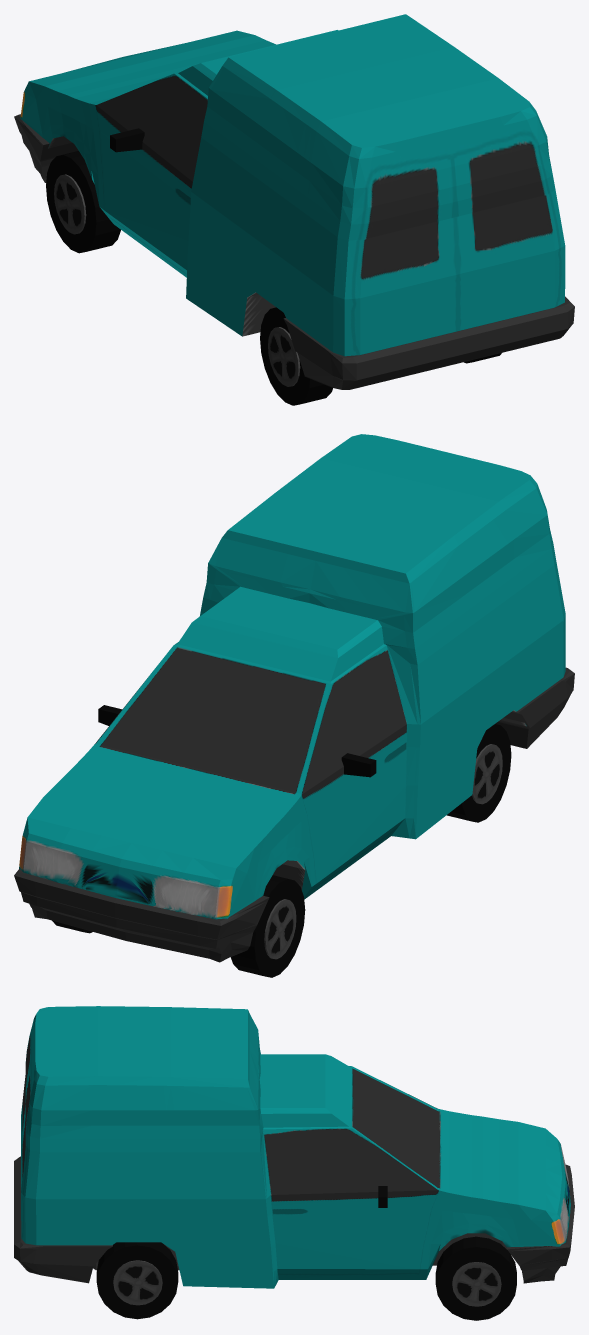
3 views of the same model, one above another, from view 1: azimuth 30°, elevation 25°; view 2: azimuth 150°, elevation 25°; view 3: azimuth 270°, elevation 25° (orthographic). The views are drawn at different scales.
Bounding box in the file's own units: 76.02 × 82.15 × 175.
Materials: 4 (2 with a texture image).
